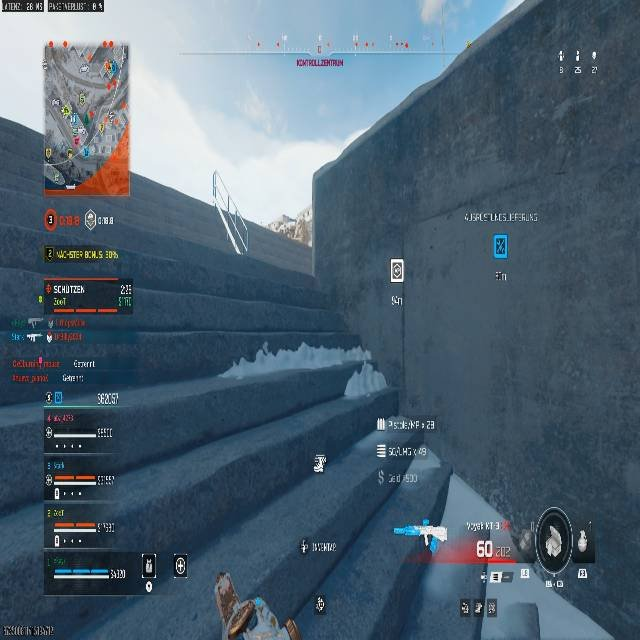player: (211, 572, 307, 639)
